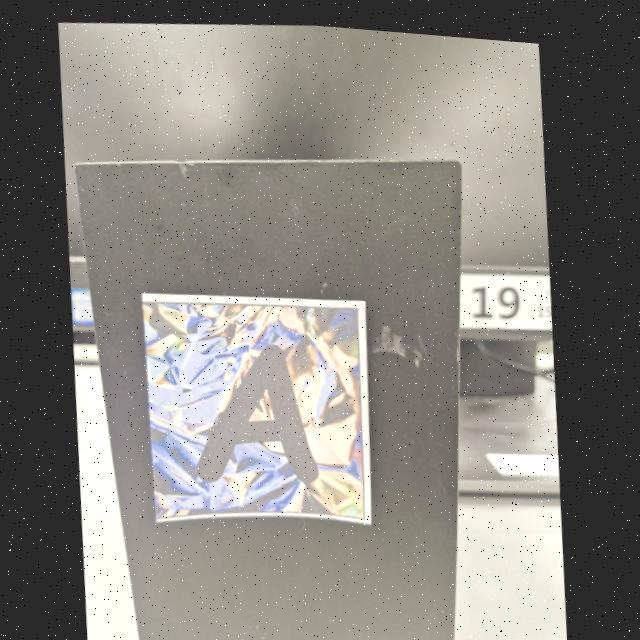A: (199, 340, 319, 480)
